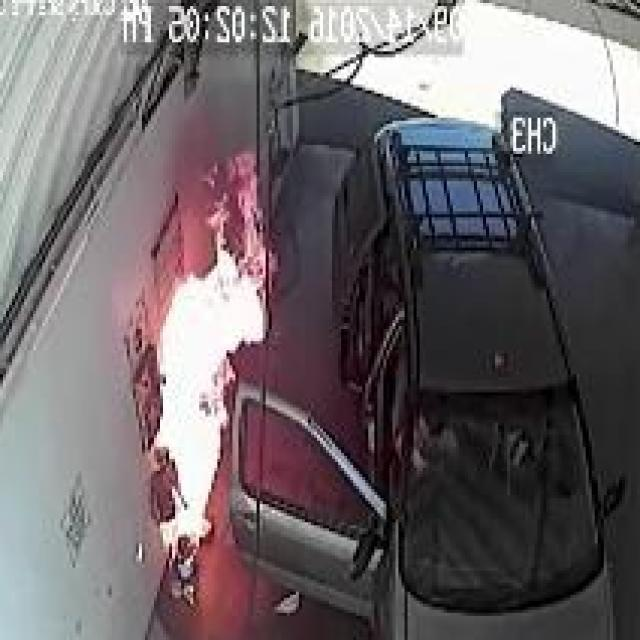smoke: (136, 166, 278, 571)
